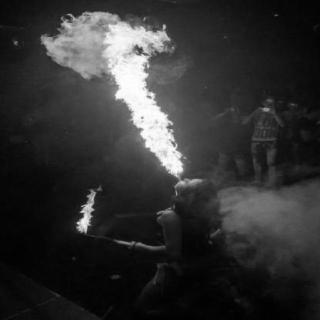Fire: (27, 10, 191, 176), (71, 183, 103, 239)
